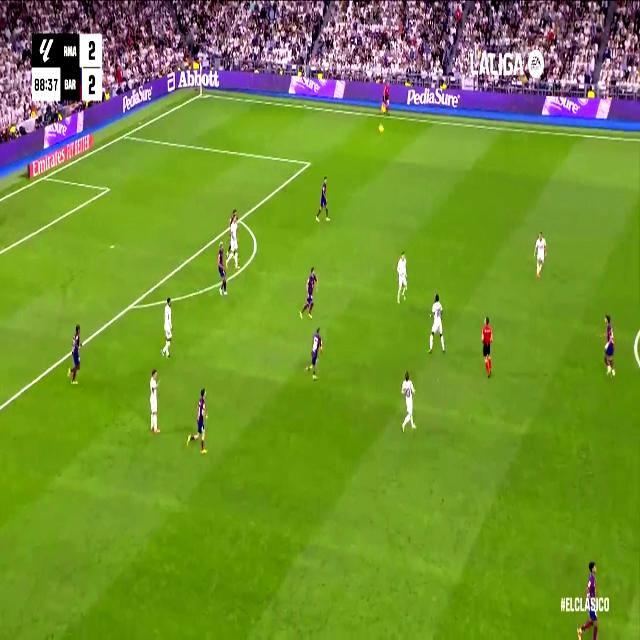bigarea_top_inner: (305, 155, 311, 171)
bigarea_top_outter: (120, 128, 128, 142)
bottom_arc_area_intersection: (126, 294, 137, 316)
corner: (197, 90, 205, 98)
smallarea_top_inner: (105, 183, 110, 196)
top_arc_area_intersection: (236, 210, 244, 227)
